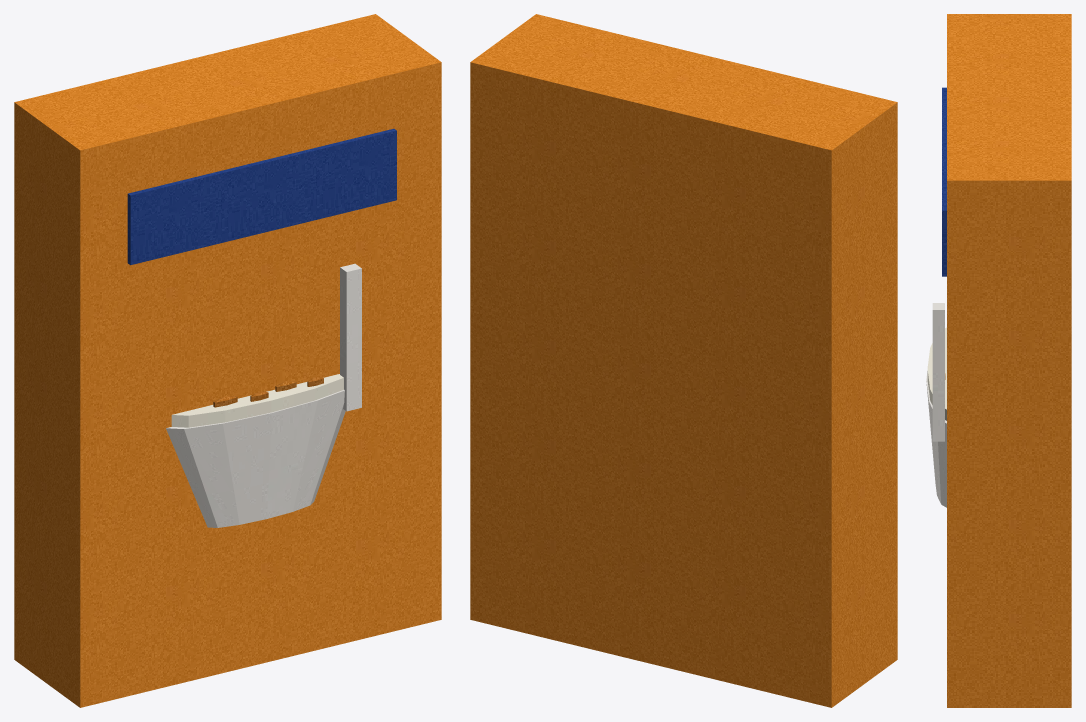
3 renders of one model, left to right at view 1: azimuth 30°, elevation 25°; view 2: azimuth 150°, elevation 25°; view 3: azimuth 270°, elevation 25°, orthographic. The views are drawn at different scales.
Parts seen in each view (by area): view 1: cereal_box; view 2: cereal_box; view 3: cereal_box.
Part boxes in pixels (x1,y1,x2,y2): cereal_box: (14,14,441,707); cereal_box: (470,14,897,707); cereal_box: (926,14,1071,707).
Size of the model in its own units: 0.19 by 0.28 by 0.07.
Materials: 5 (5 with a texture image).
